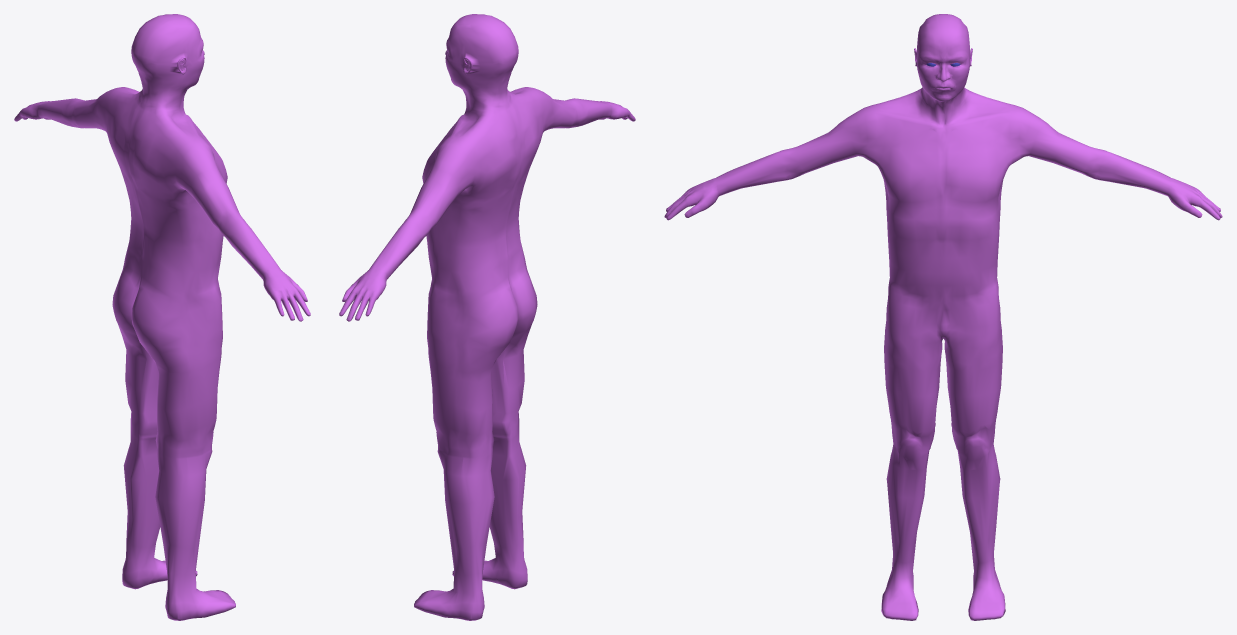
The model's file is mark.obj.
3 renders of one model, left to right at view 1: azimuth 30°, elevation 25°; view 2: azimuth 150°, elevation 25°; view 3: azimuth 270°, elevation 25°, orthographic.
Visible parts, largest first — view 1: Box002; view 2: Box002; view 3: Box002.
Boxes of the visible parts, x1,y1,x2,y2 form: Box002: [14, 14, 310, 620]; Box002: [339, 14, 635, 620]; Box002: [664, 14, 1222, 620].
Size of the model in its own units: 24437 by 157873 by 136761.
